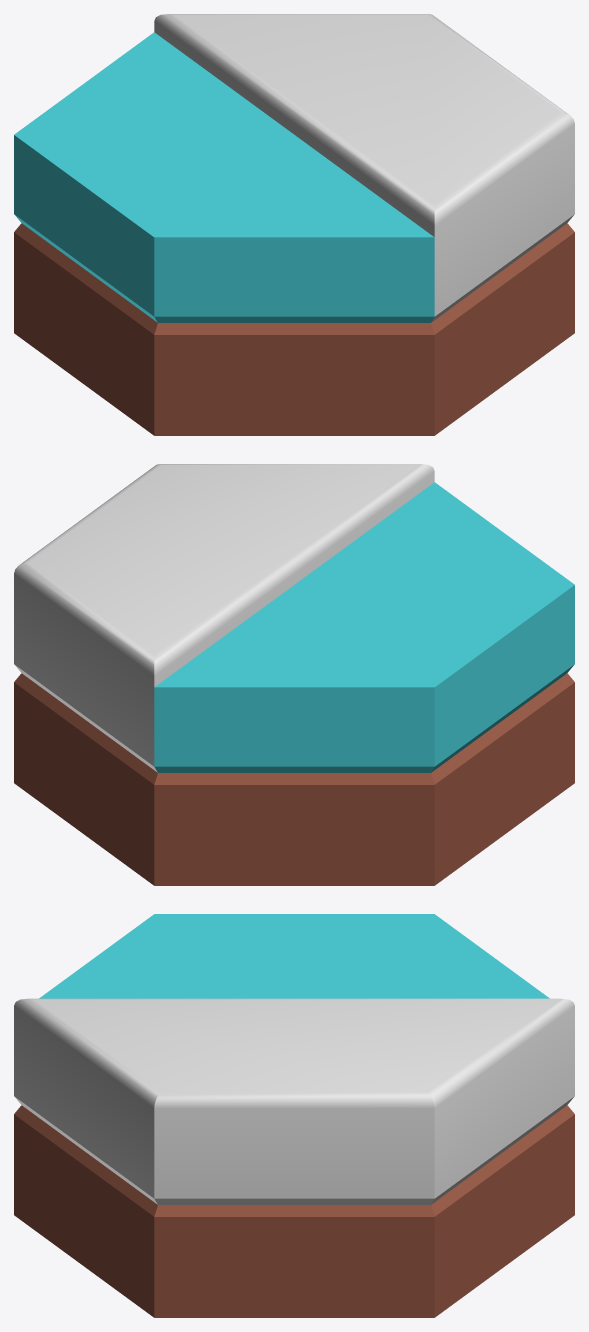
File: hex_snow_waterB_detail.gltf.glb
The picture shows the model from 3 angles, top to bottom: view 1: azimuth 30°, elevation 25°; view 2: azimuth 150°, elevation 25°; view 3: azimuth 270°, elevation 25°; orthographic projection.
Visible parts, largest first — view 1: hex_snow_waterB_detail; view 2: hex_snow_waterB_detail; view 3: hex_snow_waterB_detail.
Boxes of the visible parts, x1=… form: hex_snow_waterB_detail: x1=14, y1=14, x2=574, y2=435; hex_snow_waterB_detail: x1=14, y1=464, x2=574, y2=885; hex_snow_waterB_detail: x1=14, y1=914, x2=574, y2=1317.
Size of the model in its own units: 2 by 1 by 2.31.
